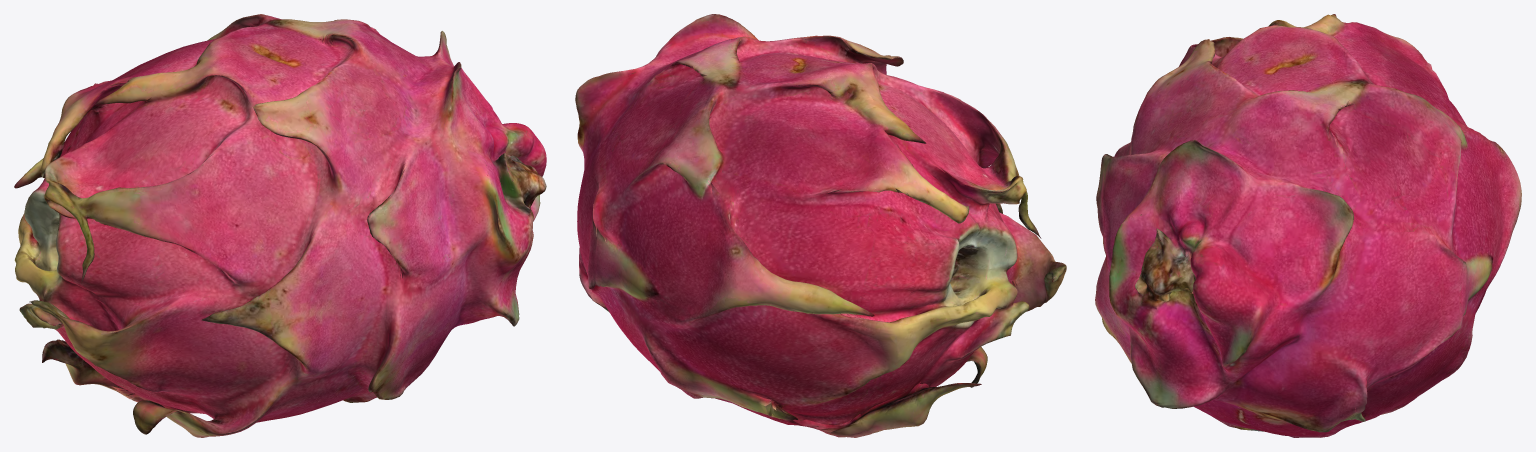
Rendered from 静物_水果_photogrammetry_dragon_fruit_opt.glb.
3 views of the same model, side by side, from view 1: azimuth 30°, elevation 25°; view 2: azimuth 150°, elevation 25°; view 3: azimuth 270°, elevation 25° (orthographic). The views are drawn at different scales.
Visible parts, largest first — view 1: meshNode_Material_u1_v1_0; view 2: meshNode_Material_u1_v1_0; view 3: meshNode_Material_u1_v1_0.
Part boxes in pixels (x1,y1,x2,y2): meshNode_Material_u1_v1_0: (14,14,546,437); meshNode_Material_u1_v1_0: (575,14,1066,437); meshNode_Material_u1_v1_0: (1095,14,1521,437).
Size of the model in its own units: 0.1461 by 0.1 by 0.109.
1 material, 1 textured.
